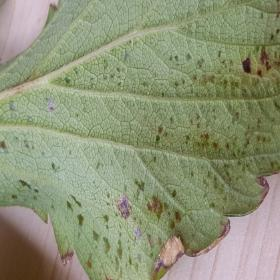Angular Leafspot: (0, 0, 279, 279)
